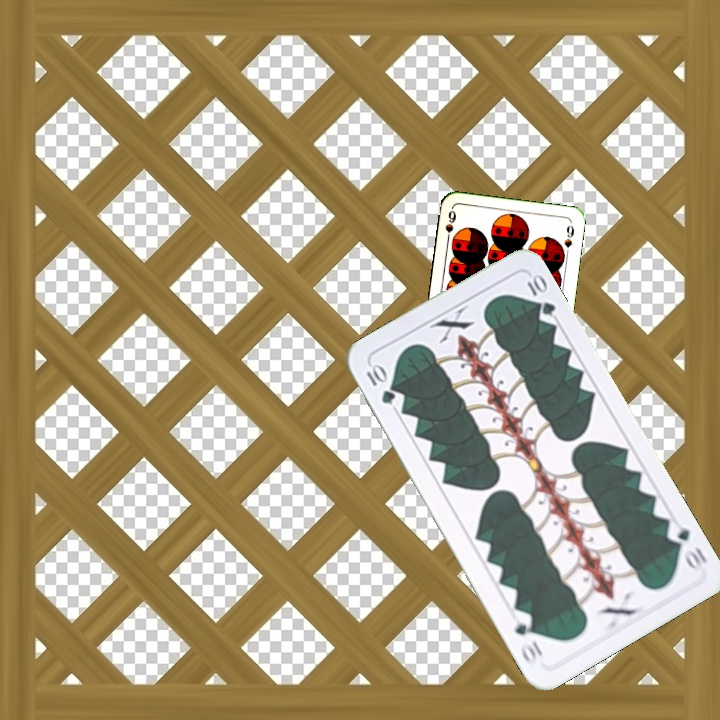G10: (662, 522, 710, 575), (362, 360, 398, 407)
S9: (441, 206, 459, 246)
